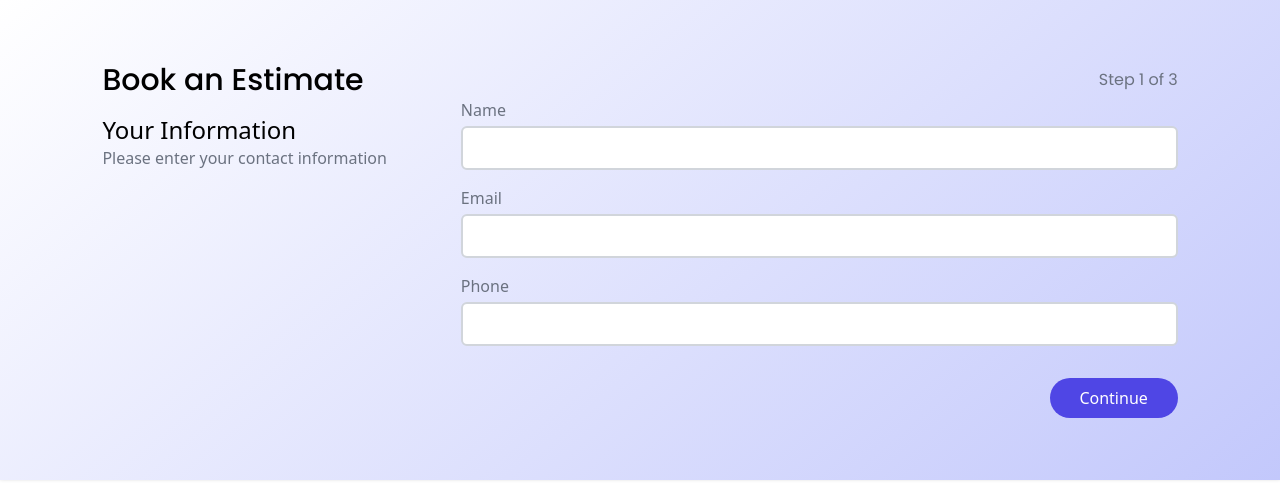
Scenario: Page 1 › should render error if the phone number field has a letter
Type "a" into the field labelled "Phone". click: (819, 324)
box: [461, 302, 1178, 346]
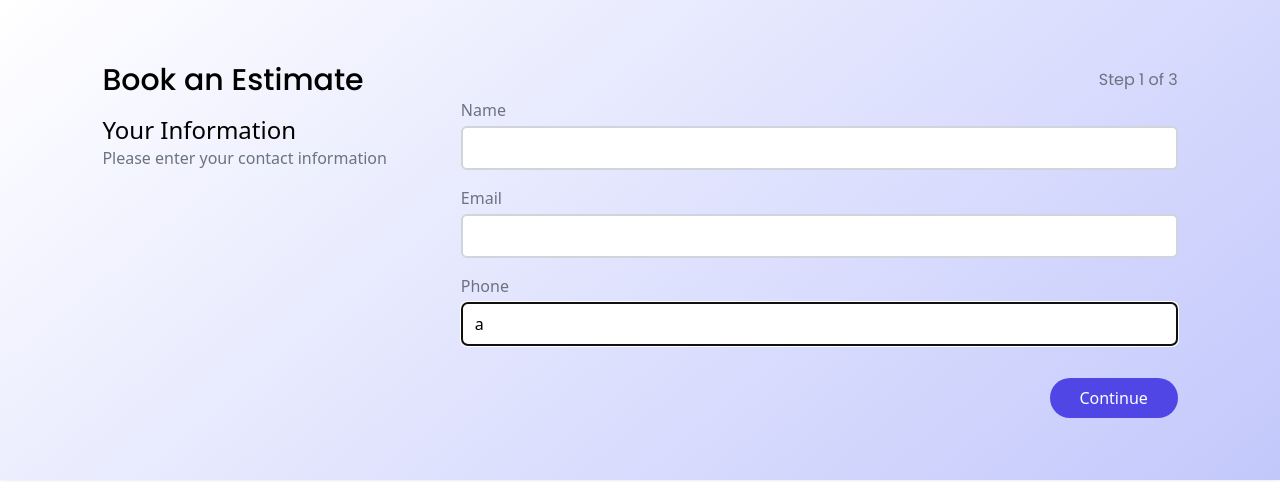
Click the button "Continue". click: (1114, 398)
box: [1050, 378, 1178, 418]
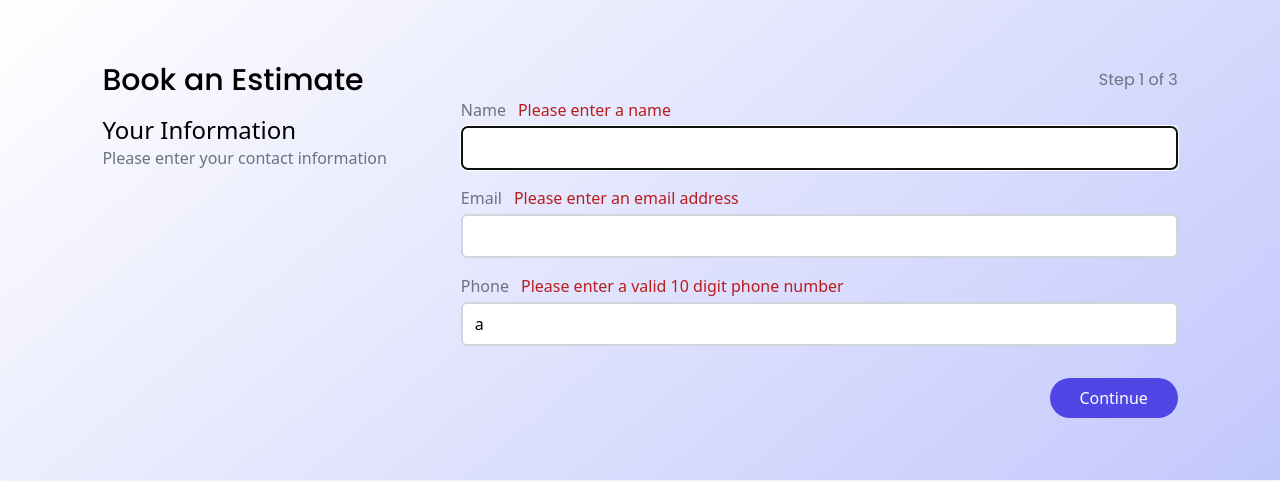
Expected: the text "Please enter a valid 10 digit phone number" is shown, [521, 274, 844, 298]
